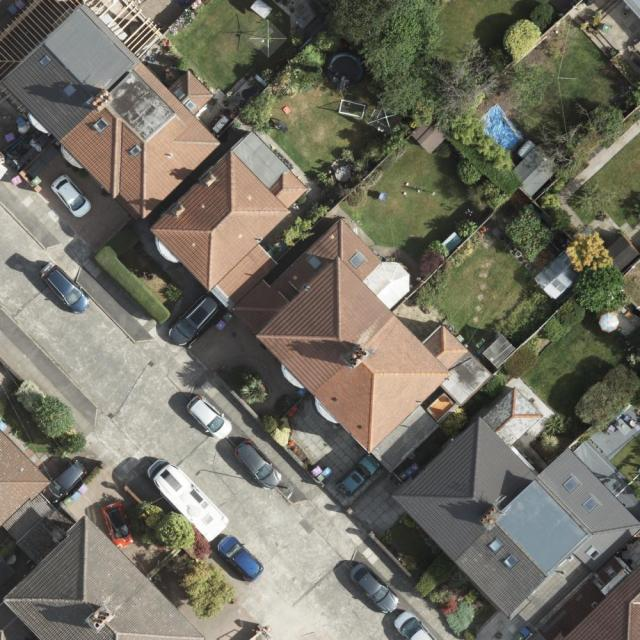roof: (152, 133, 495, 476), (393, 383, 640, 618), (4, 1, 222, 224), (4, 514, 205, 640), (564, 564, 639, 640), (0, 431, 47, 530)
skylight: (560, 473, 583, 495), (347, 250, 368, 270), (59, 82, 79, 101), (582, 495, 600, 514), (91, 116, 109, 134), (306, 252, 323, 270), (583, 545, 602, 561), (487, 538, 506, 553), (38, 52, 52, 70), (128, 144, 144, 159), (170, 87, 186, 102), (502, 553, 519, 567), (185, 98, 197, 111)
